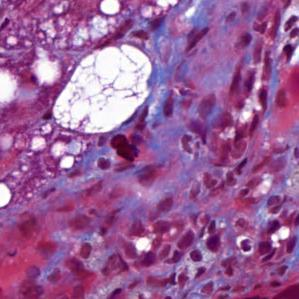inflammation: (231, 232, 257, 257)
